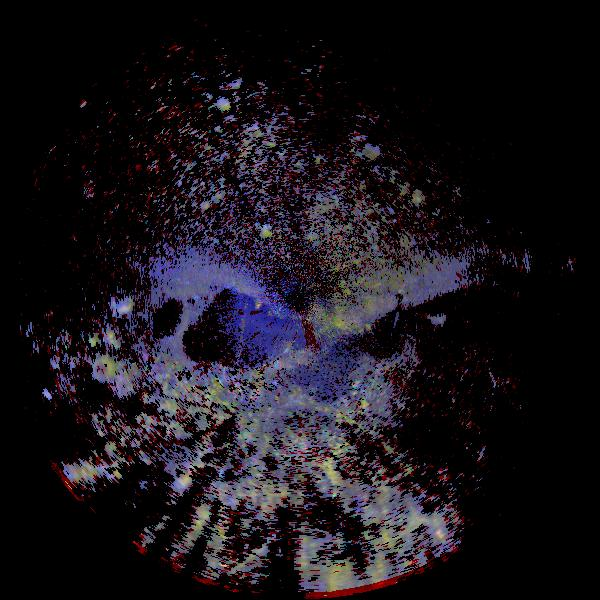roost: (89, 355, 122, 388)
